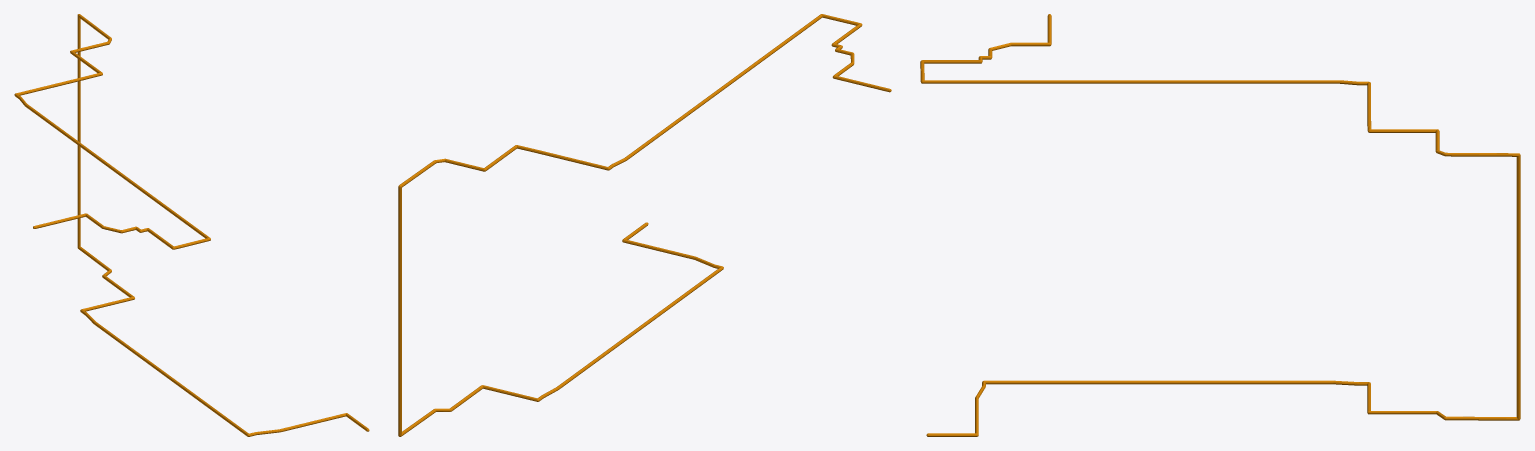
The picture shows the model from 3 angles, left to right: view 1: azimuth 30°, elevation 25°; view 2: azimuth 150°, elevation 25°; view 3: azimuth 270°, elevation 25°; orthographic projection. The views are drawn at different scales.
Bounding box in the file's own units: 1916 × 1520 × 3092.
